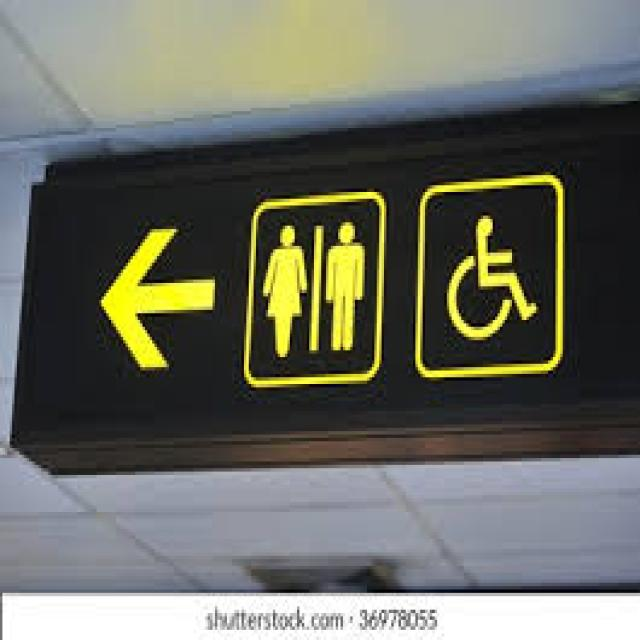toilet_icon: (253, 192, 547, 367)
